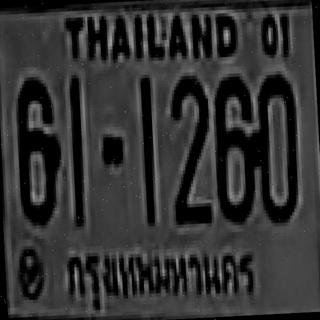N00: (253, 70, 298, 220)
N01: (68, 75, 87, 210)
N02: (167, 73, 213, 217), (168, 74, 211, 206)
N06: (14, 76, 65, 223), (210, 74, 258, 221)
P04: (61, 235, 267, 320)
